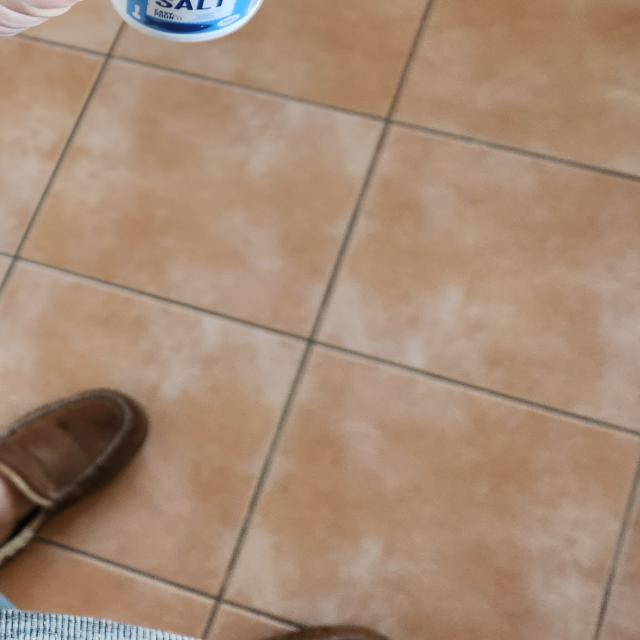salt: (108, 0, 300, 42)
